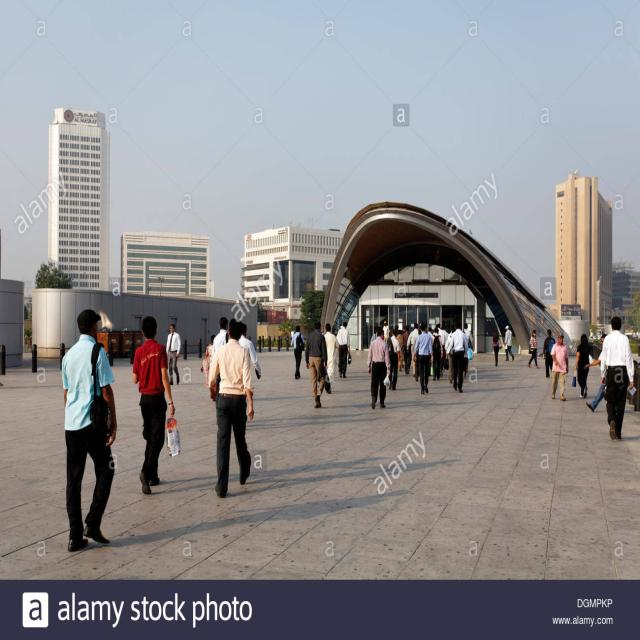body: (58, 307, 120, 555), (207, 316, 256, 500), (132, 315, 176, 495), (599, 314, 637, 442), (304, 320, 332, 410), (211, 315, 230, 427), (583, 333, 608, 413), (367, 328, 391, 410), (447, 321, 469, 393), (413, 321, 434, 396), (236, 320, 262, 380), (549, 331, 569, 402), (574, 333, 594, 399), (323, 322, 341, 395), (200, 333, 217, 402), (334, 320, 352, 379), (165, 322, 181, 386), (386, 328, 401, 391), (290, 324, 306, 380), (432, 323, 446, 378), (430, 327, 444, 381), (406, 322, 419, 378), (542, 329, 556, 378), (445, 324, 456, 384), (401, 324, 412, 376), (463, 322, 474, 374), (502, 323, 516, 363), (526, 329, 539, 369), (490, 328, 502, 368), (396, 330, 404, 372), (463, 347, 472, 380), (370, 325, 380, 345), (23, 331, 32, 353), (382, 320, 390, 344), (428, 326, 435, 346), (290, 328, 294, 340), (444, 328, 448, 337)
